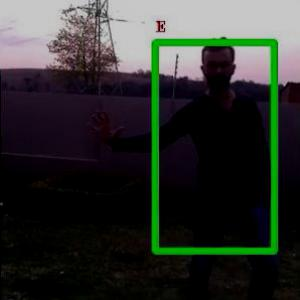follow_hand: (82, 107, 123, 146)
